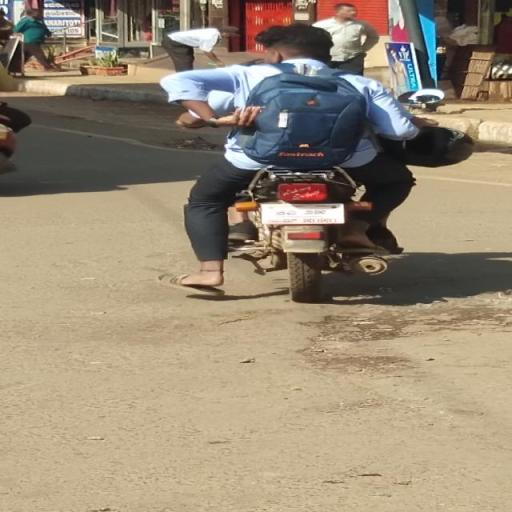bike: (162, 19, 472, 306)
numberplate: (261, 202, 345, 226)
withouthelmet: (260, 26, 332, 62)
